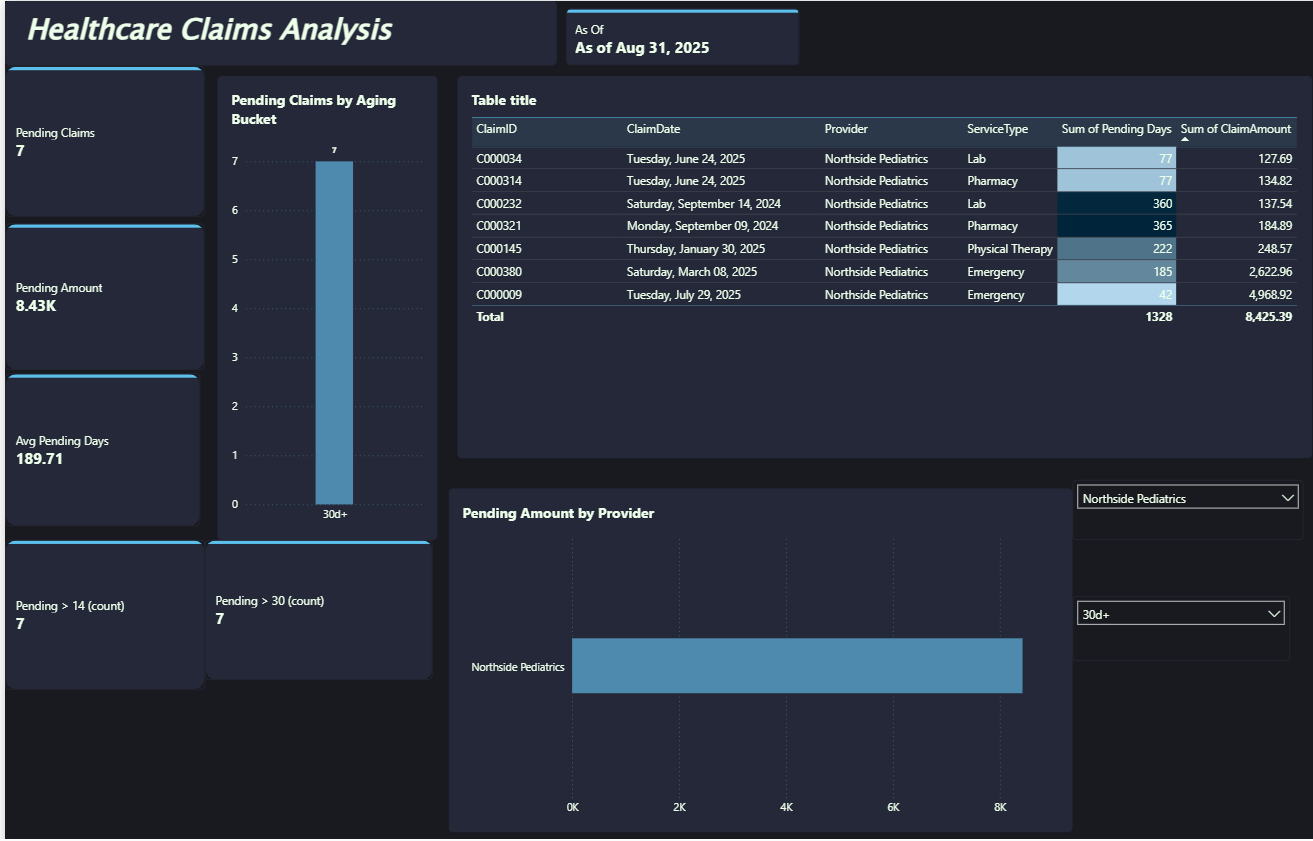

This screenshot's page, from the dashboard's own definition file:
{"tool":"powerbi","page":{"name":"Aging & SLA","canvas":[2106,1200],"ordinal":2},"visuals":[{"type":"cardVisual","fields":{"Data":["Claims.Pending Claims"]},"box":[0,74,228,172],"z":0},{"type":"cardVisual","fields":{"Data":["Claims.Pending Amount"]},"box":[0,254,228,167],"z":1000},{"type":"cardVisual","fields":{"Data":["Claims.Avg Pending Days"]},"box":[0,426,223,174],"z":2000},{"type":"cardVisual","fields":{"Data":["Claims.Pending > 14 (count)"]},"box":[0,615.7,228.6,171.4],"z":3000},{"type":"cardVisual","fields":{"Data":["Claims.Pending > 30 (count)"]},"box":[228.6,615.7,260,160],"z":4000},{"type":"clusteredColumnChart","fields":{"Category":["Claims.Aging Bucket"],"Y":["Claims.Pending Claims"]},"box":[242.9,85.7,251.4,530],"z":5000},{"type":"clusteredBarChart","fields":{"Category":["Claims.Provider"],"Y":["Claims.Pending Amount"]},"box":[507.1,557.1,712.9,392.9],"z":6000},{"type":"tableEx","fields":{"Values":["Claims.ClaimID","Claims.ClaimDate","Claims.Provider","Claims.ServiceType","Sum(Claims.Pending Days)","Sum(Claims.ClaimAmount)"]},"box":[517.1,85.7,977.1,437.1],"z":7000},{"type":"slicer","fields":{"Values":["Claims.Provider"]},"box":[1220,547.1,264.3,68.6],"z":8000},{"type":"slicer","fields":{"Values":["Claims.Aging Bucket"]},"box":[1220,680,248.6,74.3],"z":9000},{"type":"shape","box":[0,0,630,73.8],"z":10000},{"type":"textbox","box":[1812,6,294,188],"z":11000},{"type":"textbox","box":[1241.4,0,570,37.1],"z":12000},{"type":"textbox","box":[24.3,8.6,591.4,57.1],"z":13000}]}

Visuals, with their boxes on the page's 2106x1200 design canvas (x1, y1, x2, y2). These are canvas units, not pixel positions in the 1313x841 screenshot, which may show the page scaled, cropped or inside an application window:
cardVisual - Claims.Pending Claims: BBox(0, 74, 228, 246)
cardVisual - Claims.Pending Amount: BBox(0, 254, 228, 421)
cardVisual - Claims.Avg Pending Days: BBox(0, 426, 223, 600)
cardVisual - Claims.Pending > 14 (count): BBox(0, 616, 229, 787)
cardVisual - Claims.Pending > 30 (count): BBox(229, 616, 489, 776)
clusteredColumnChart - Claims.Aging Bucket x Claims.Pending Claims: BBox(243, 86, 494, 616)
clusteredBarChart - Claims.Provider x Claims.Pending Amount: BBox(507, 557, 1220, 950)
tableEx - Claims.ClaimID x Claims.ClaimDate: BBox(517, 86, 1494, 523)
slicer - Claims.Provider: BBox(1220, 547, 1484, 616)
slicer - Claims.Aging Bucket: BBox(1220, 680, 1469, 754)
shape: BBox(0, 0, 630, 74)
textbox: BBox(1812, 6, 2106, 194)
textbox: BBox(1241, 0, 1811, 37)
textbox: BBox(24, 9, 616, 66)
